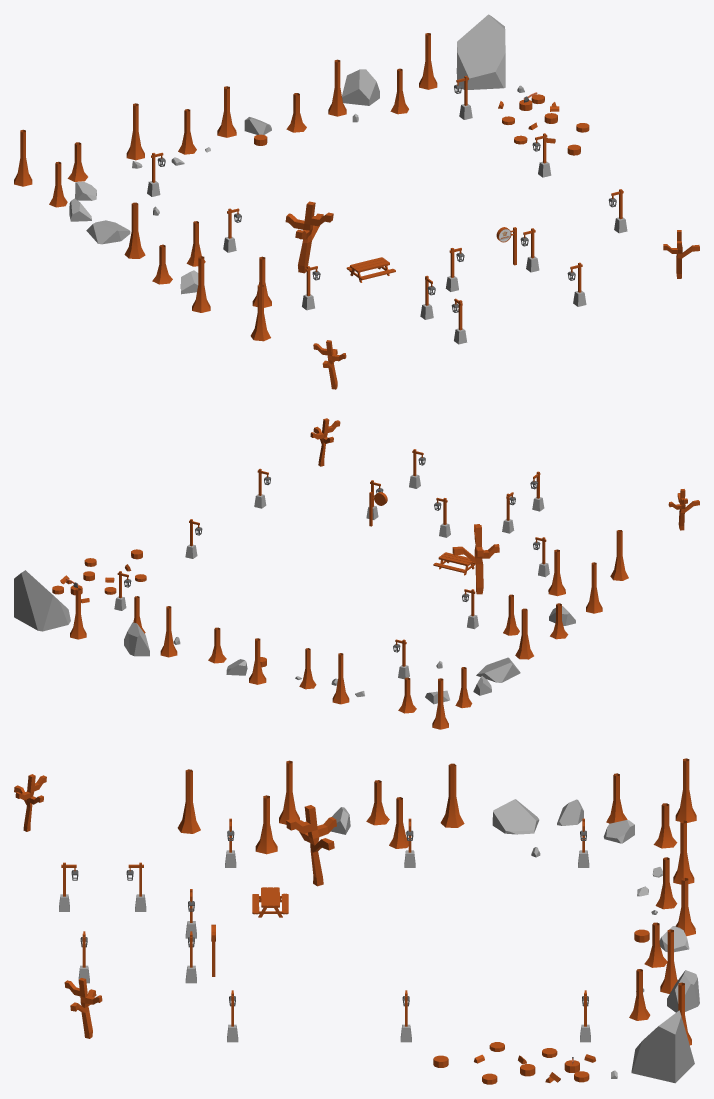
The model's file is world-physic-environment.glb.
The picture shows the model from 3 angles, top to bottom: view 1: azimuth 30°, elevation 25°; view 2: azimuth 150°, elevation 25°; view 3: azimuth 270°, elevation 25°; orthographic projection. The views are drawn at different scales.
Visible parts, largest first — view 1: pine-tree, Cube.261, tree.003, Cube.015, Cube.256, Cube.269, Cube.258, Cube.018, picnic table_table_0; view 2: pine-tree, Cube.261, tree.003, Cube.015, Cube.256, Cube.258, Cube.269, Cube.018, picnic table_table_0; view 3: pine-tree, tree.003, Cube.261, Cube.015, Cube.256, Cube.258, picnic table_table_0, Cube.269, Cube.018, Cube.250, Cube.257.
Boxes of the visible parts, <box> form: pine-tree: <box>14,33,437,341</box>; Cube.261: <box>456,14,505,89</box>; tree.003: <box>285,201,699,389</box>; Cube.015: <box>147,104,627,344</box>; Cube.256: <box>151,75,623,330</box>; Cube.269: <box>342,69,379,105</box>; Cube.258: <box>86,220,130,244</box>; Cube.018: <box>157,84,616,312</box>; picnic table_table_0: <box>346,257,395,282</box>; pine-tree: <box>70,530,628,729</box>; Cube.261: <box>14,570,70,631</box>; tree.003: <box>310,418,699,594</box>; Cube.015: <box>114,474,549,679</box>; Cube.256: <box>117,449,546,666</box>; Cube.258: <box>476,657,520,682</box>; Cube.269: <box>124,622,149,656</box>; Cube.018: <box>124,457,540,652</box>; picnic table_table_0: <box>433,552,475,575</box>; pine-tree: <box>177,758,696,1045</box>; tree.003: <box>14,774,336,1038</box>; Cube.261: <box>631,1010,694,1083</box>; Cube.015: <box>59,850,590,1042</box>; Cube.256: <box>61,818,586,1026</box>; Cube.258: <box>492,799,539,834</box>; picnic table_table_0: <box>252,887,288,917</box>; Cube.269: <box>667,970,699,1012</box>; Cube.018: <box>71,830,588,1006</box>; Cube.250: <box>603,820,634,843</box>; Cube.257: <box>557,799,583,825</box>.
Bounding box in the file's own units: 17.5 × 2.4 × 18.69.
15 materials, 1 textured.
